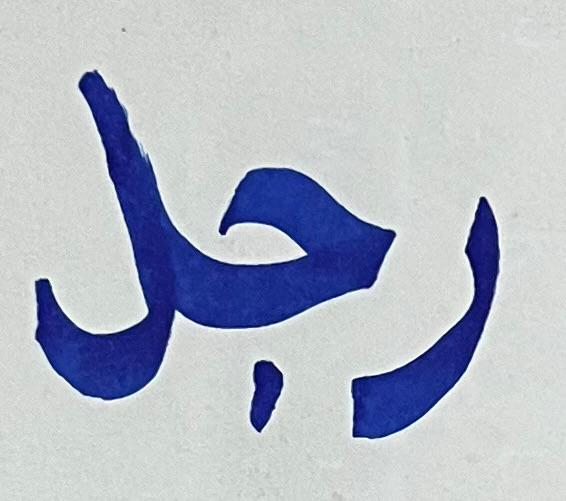dal: (17, 66, 176, 406)
jeem: (185, 153, 352, 441)
reh: (401, 192, 536, 444)
